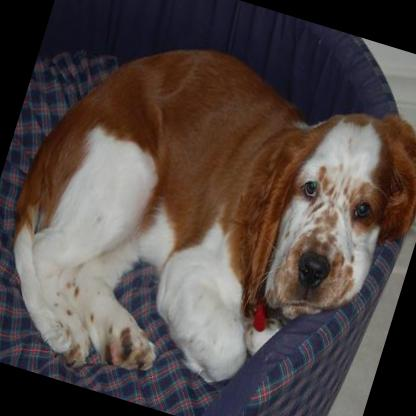Welsh_springer_spaniel: (0, 2, 416, 416)
